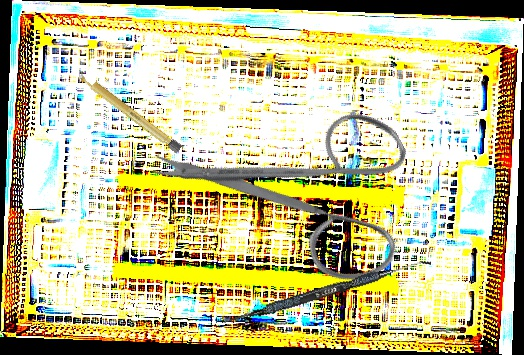Iris Scissors: (142, 47, 452, 347)
Scalpel Handle: (76, 70, 183, 154)
Spatula Surgical: (221, 251, 432, 332)
